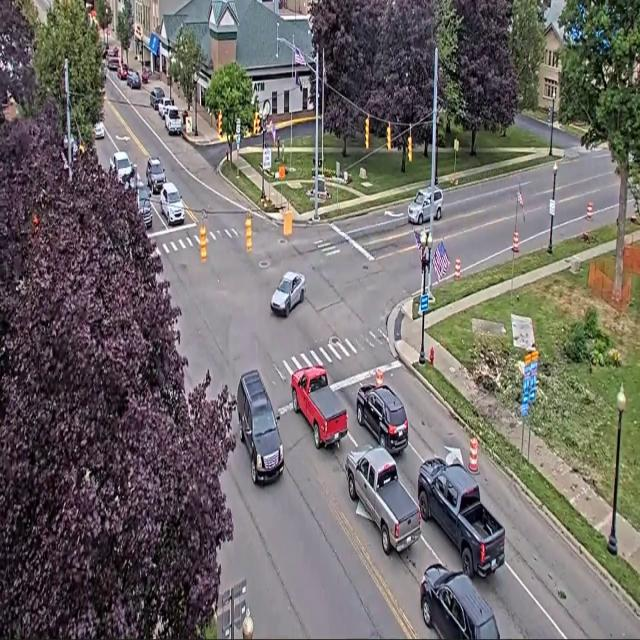car: (421, 564, 500, 639), (237, 370, 283, 484), (356, 384, 408, 454), (271, 272, 305, 316), (161, 182, 185, 226), (408, 188, 431, 224), (137, 180, 152, 229), (110, 152, 132, 183), (146, 158, 165, 193), (165, 106, 181, 135), (149, 86, 165, 111), (158, 96, 173, 119), (127, 71, 141, 88), (94, 122, 106, 140), (107, 56, 119, 71), (117, 64, 128, 80), (141, 68, 150, 84), (108, 47, 119, 57)
traffic signal: (199, 223, 207, 262), (245, 212, 252, 252), (283, 211, 292, 236), (253, 112, 260, 135), (217, 111, 222, 138), (365, 117, 369, 149), (548, 106, 554, 125), (387, 123, 391, 151), (408, 135, 412, 162)
truck: (418, 457, 505, 578), (345, 446, 420, 555), (291, 367, 347, 448)
